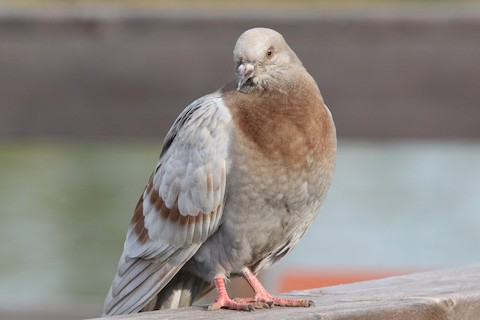pigeon: (100, 27, 342, 317)
